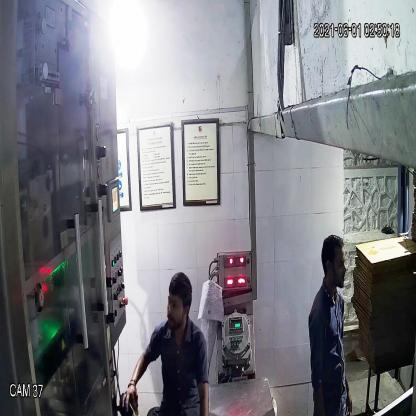no_goggles: (161, 292, 190, 316), (321, 251, 349, 274)
